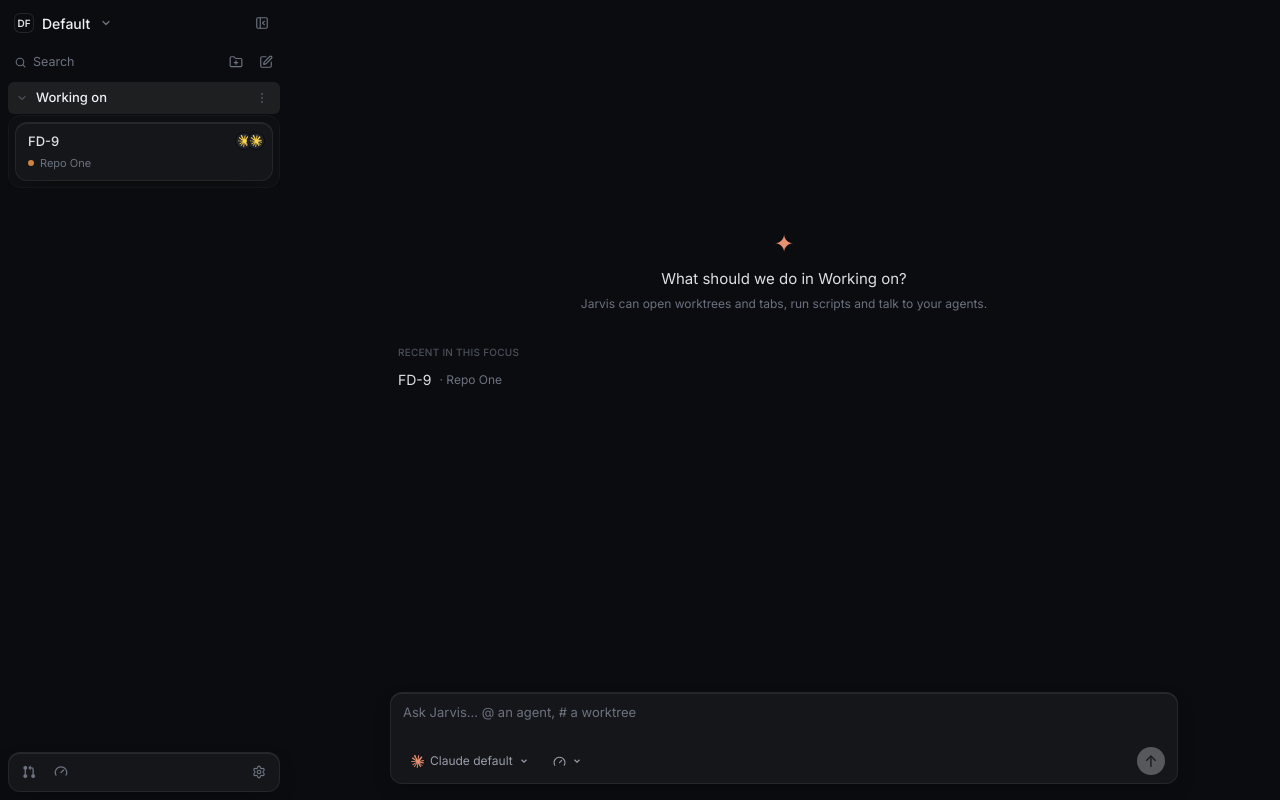
Dashboard inline hub › opens the workspace-level code reviews page from the sidebar
Expected: the text "Repo One" is shown, [40,155,91,172]
Click the button named "Code reviews" at (29, 772), box [15,758,43,786]
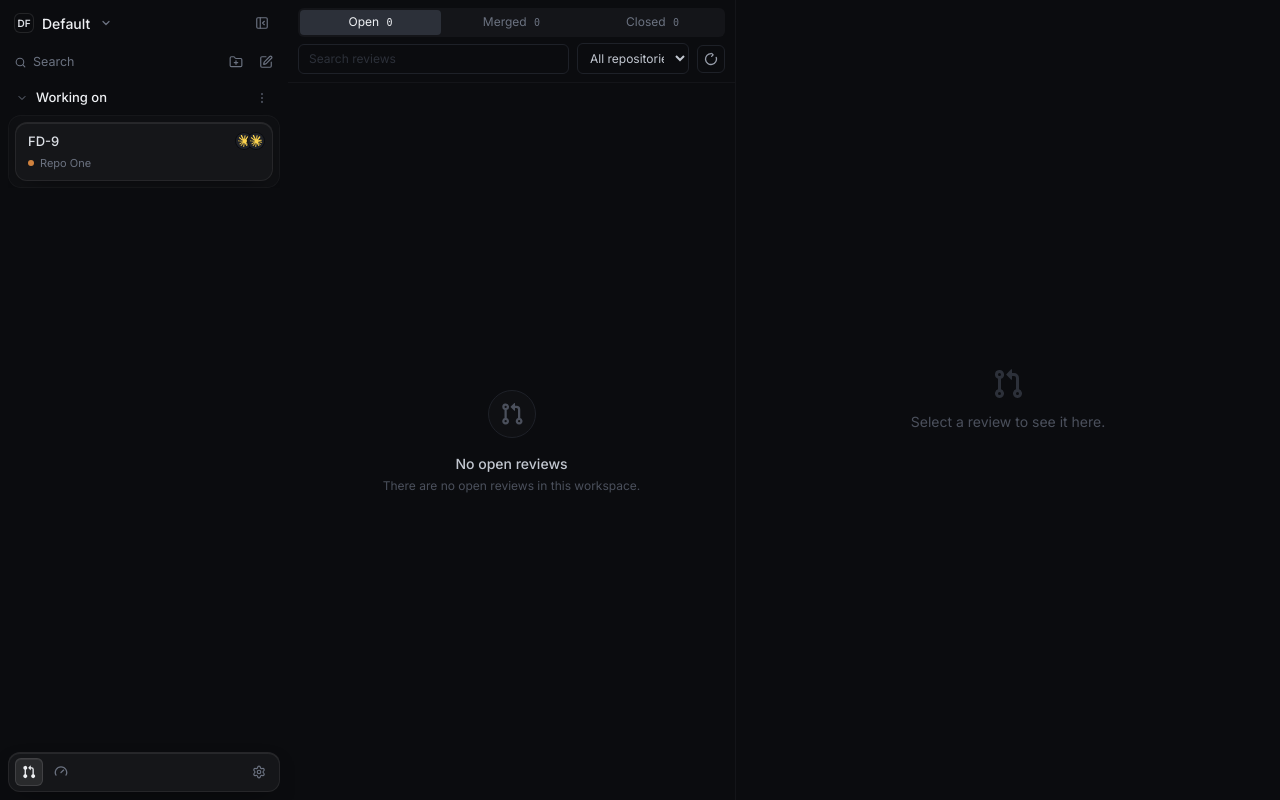
Now the search field named "Search code reviews" is shown, box [298,44,569,74]
